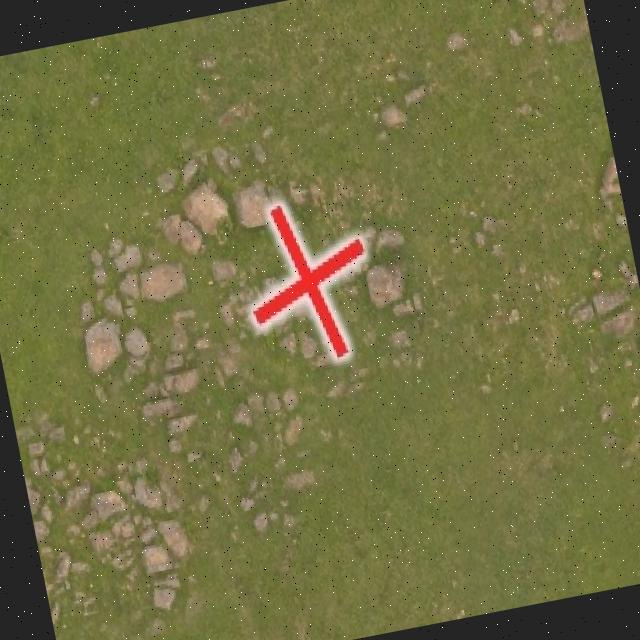x_marker: (233, 190, 381, 370)
